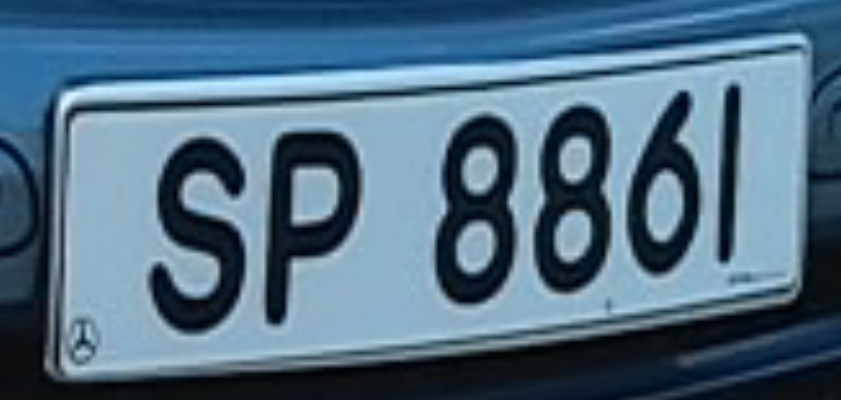1: (700, 47, 762, 285)
6: (624, 59, 714, 284)
8: (421, 89, 528, 317), (527, 76, 619, 297)
P: (244, 109, 375, 337)
S: (130, 113, 256, 344)
